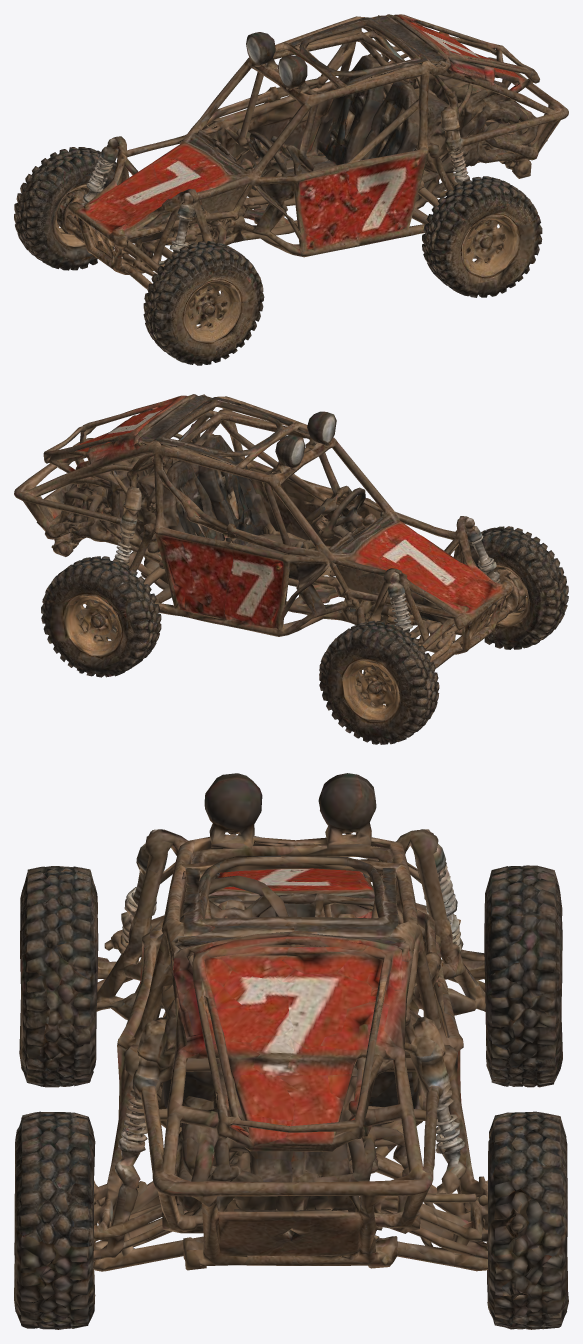
File: buggy7_opt.glb
3 views of the same model, one above another, from view 1: azimuth 30°, elevation 25°; view 2: azimuth 150°, elevation 25°; view 3: azimuth 270°, elevation 25° (orthographic). The views are drawn at different scales.
Size of the model in its own units: 1.9 by 0.9409 by 1.13.
1 material, 1 textured.
